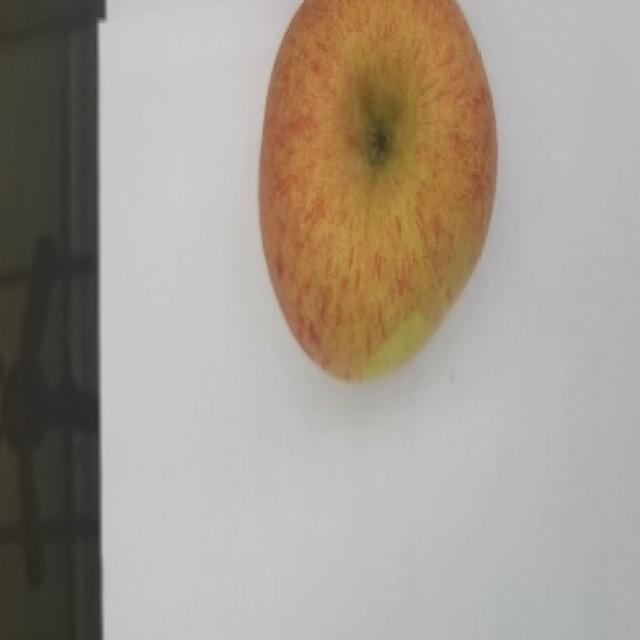Apple: (257, 0, 498, 382)
